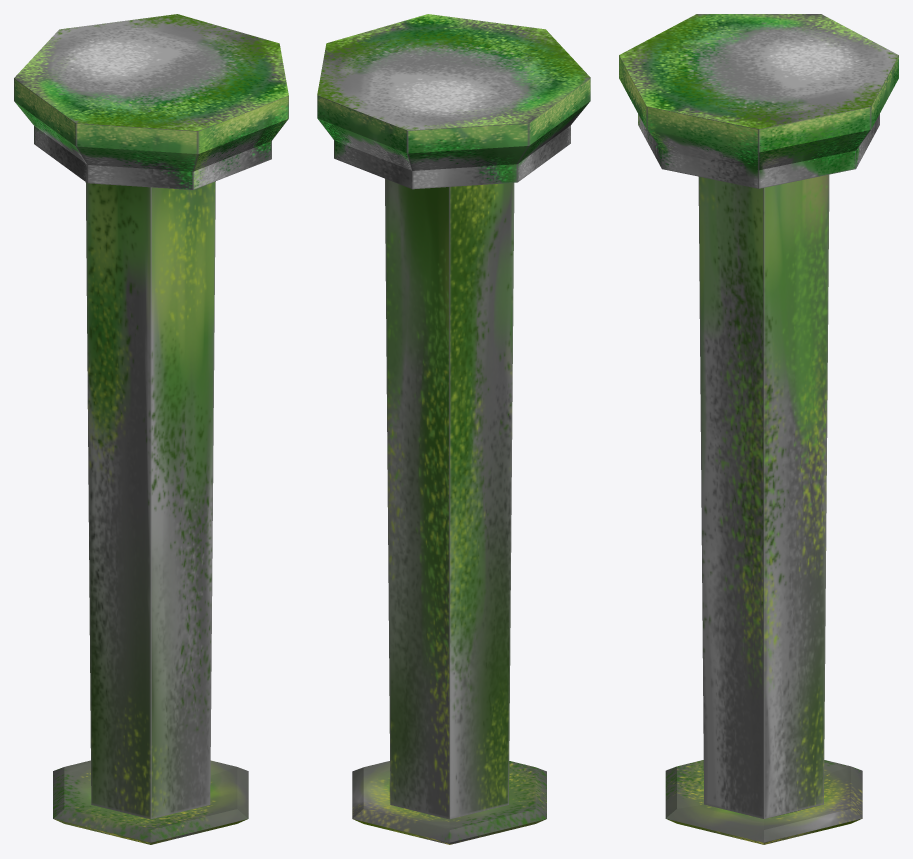
Rendered from pillarCollumn.fbx.
3 views of the same model, side by side, from view 1: azimuth 30°, elevation 25°; view 2: azimuth 150°, elevation 25°; view 3: azimuth 270°, elevation 25° (orthographic).
Parts seen in each view (by area): view 1: pCylinder15; view 2: pCylinder15; view 3: pCylinder15.
Boxes of the visible parts, x1,y1,x2,y2 form: pCylinder15: [14, 14, 288, 844]; pCylinder15: [317, 14, 590, 844]; pCylinder15: [619, 14, 898, 844].
Size of the model in its own units: 4.62 by 13.75 by 4.74.
2 materials, 2 textured.
